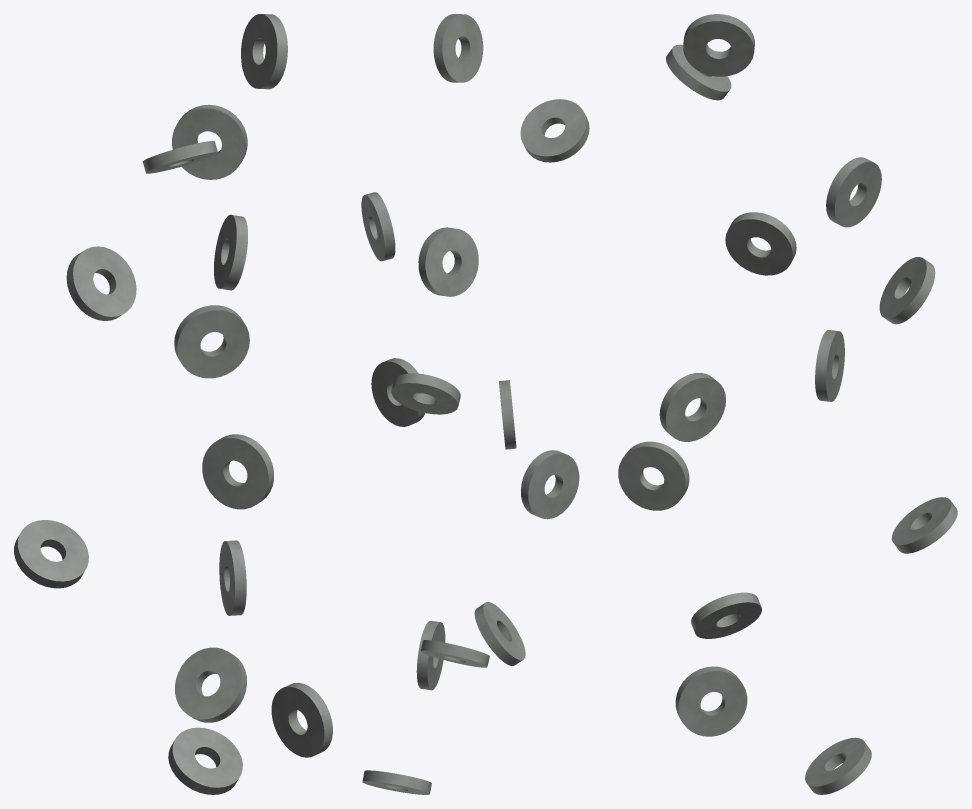
The model's file is EST-ARM-003_anim.glb.
The picture shows the model from 3 angles, left to right: view 1: azimuth 30°, elevation 25°; view 2: azimuth 150°, elevation 25°; view 3: azimuth 270°, elevation 25°; orthographic projection. The views are drawn at different scales.
Parts seen in each view (by area): view 1: EST-ARM-003_anim6, EST-ARM-003_anim2, EST-ARM-003_anim5, EST-ARM-003_anim7, EST-ARM-003_anim3, EST-ARM-003_anim0, EST-ARM-003_anim9, EST-ARM-003_anim1, EST-ARM-003_anim11, EST-ARM-003_anim8, EST-ARM-003_anim4, EST-ARM-003_anim10; view 2: EST-ARM-003_anim10, EST-ARM-003_anim8, EST-ARM-003_anim4, EST-ARM-003_anim11, EST-ARM-003_anim7, EST-ARM-003_anim2, EST-ARM-003_anim6, EST-ARM-003_anim9, EST-ARM-003_anim1, EST-ARM-003_anim3, EST-ARM-003_anim0, EST-ARM-003_anim5; view 3: EST-ARM-003_anim1, EST-ARM-003_anim4, EST-ARM-003_anim11, EST-ARM-003_anim8, EST-ARM-003_anim5, EST-ARM-003_anim9, EST-ARM-003_anim0, EST-ARM-003_anim7, EST-ARM-003_anim3, EST-ARM-003_anim2, EST-ARM-003_anim6, EST-ARM-003_anim10.
Part boxes in pixels (x1,y1,x2,y2): EST-ARM-003_anim6: (174, 305, 249, 378); EST-ARM-003_anim2: (175, 647, 246, 722); EST-ARM-003_anim5: (202, 434, 273, 509); EST-ARM-003_anim7: (66, 246, 136, 320); EST-ARM-003_anim3: (14, 520, 88, 588); EST-ARM-003_anim0: (168, 727, 242, 794); EST-ARM-003_anim9: (172, 104, 247, 179); EST-ARM-003_anim1: (271, 682, 332, 757); EST-ARM-003_anim11: (241, 14, 287, 89); EST-ARM-003_anim8: (214, 214, 247, 290); EST-ARM-003_anim4: (219, 540, 246, 615); EST-ARM-003_anim10: (142, 141, 217, 173); EST-ARM-003_anim10: (520, 99, 589, 162); EST-ARM-003_anim8: (418, 227, 478, 296); EST-ARM-003_anim4: (521, 450, 579, 519); EST-ARM-003_anim11: (433, 14, 483, 82); EST-ARM-003_anim7: (391, 373, 460, 414); EST-ARM-003_anim2: (474, 602, 525, 665); EST-ARM-003_anim6: (371, 358, 425, 426); EST-ARM-003_anim9: (361, 192, 395, 261); EST-ARM-003_anim1: (416, 621, 445, 690); EST-ARM-003_anim3: (420, 640, 489, 667); EST-ARM-003_anim0: (362, 770, 431, 794); EST-ARM-003_anim5: (499, 380, 516, 449); EST-ARM-003_anim1: (675, 666, 747, 736); EST-ARM-003_anim4: (618, 441, 689, 510); EST-ARM-003_anim11: (683, 14, 754, 76); EST-ARM-003_anim8: (725, 212, 796, 275); EST-ARM-003_anim5: (659, 373, 725, 441); EST-ARM-003_anim9: (826, 157, 881, 227); EST-ARM-003_anim0: (805, 737, 871, 794); EST-ARM-003_anim7: (879, 257, 935, 324); EST-ARM-003_anim3: (891, 497, 957, 553); EST-ARM-003_anim2: (691, 592, 761, 638); EST-ARM-003_anim6: (815, 330, 844, 401); EST-ARM-003_anim10: (666, 44, 731, 100).
Size of the model in its own units: 0.142 by 0.5973 by 0.2378.
Materials: 1 (1 with a texture image).
